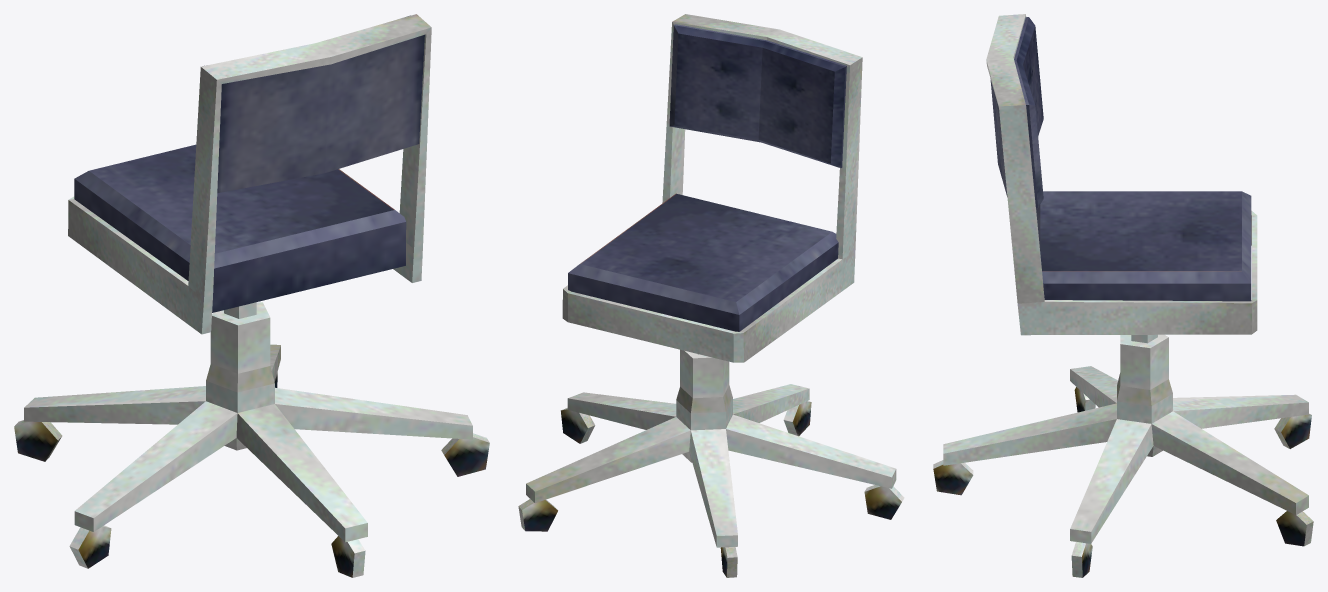
Rendered from office_chair_blue.fbx.
The picture shows the model from 3 angles, left to right: view 1: azimuth 30°, elevation 25°; view 2: azimuth 150°, elevation 25°; view 3: azimuth 270°, elevation 25°; orthographic projection. The views are drawn at different scales.
Visible parts, largest first — view 1: office_chair_blue; view 2: office_chair_blue; view 3: office_chair_blue.
Boxes of the visible parts, left/top/right/bottom form: office_chair_blue: left=14, top=14, right=489, bottom=577; office_chair_blue: left=518, top=14, right=904, bottom=577; office_chair_blue: left=933, top=14, right=1313, bottom=577.
Size of the model in its own units: 94 by 110 by 86.17.
1 material, 1 textured.
